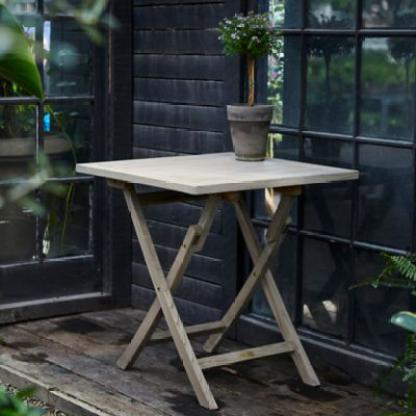table: (71, 144, 363, 413)
